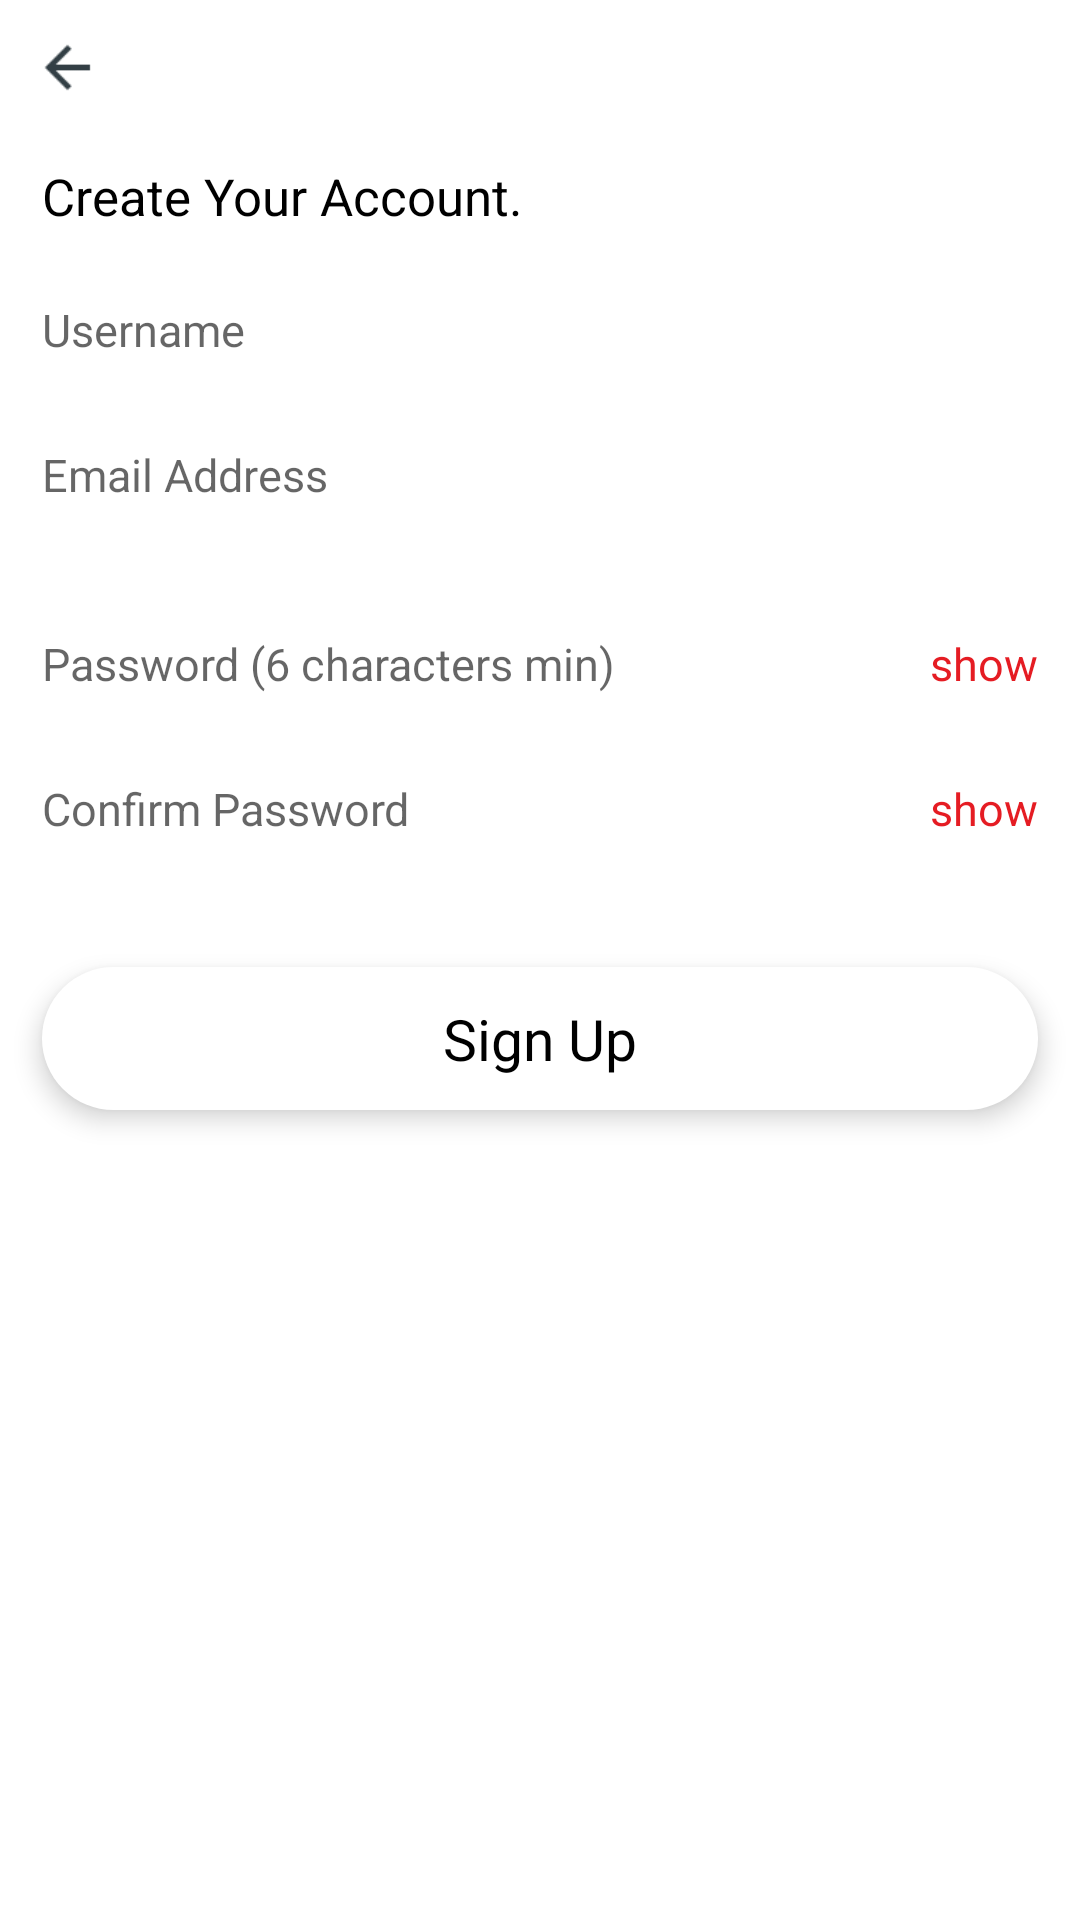

Named icons in this screenshot (1080*1920) and their bounding boxes, {"left": x1, "top": y1, "right": x2, "bottom": y2}:
arrow left: {"left": 45, "top": 45, "right": 91, "bottom": 90}
